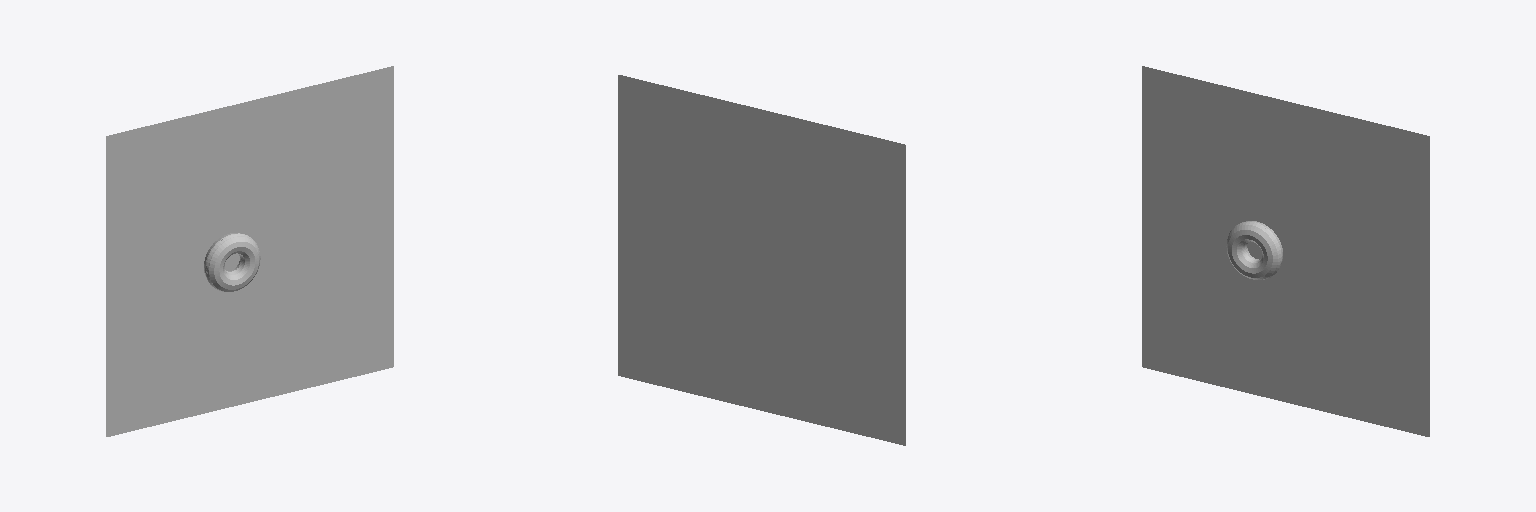
File: DonutWithStoneTextureNotTriangulated.obj
3 renders of one model, left to right at view 1: azimuth 30°, elevation 25°; view 2: azimuth 150°, elevation 25°; view 3: azimuth 330°, elevation 25°, orthographic.
Visible parts, largest first — view 1: Plane_Plane.001, Torus.001; view 2: Plane_Plane.001; view 3: Plane_Plane.001, Torus.001.
Boxes of the visible parts, box(x1,y1,x2,y2) form: Plane_Plane.001: box(106, 66, 393, 436); Torus.001: box(204, 233, 260, 291); Plane_Plane.001: box(618, 75, 905, 445); Plane_Plane.001: box(1142, 66, 1429, 436); Torus.001: box(1226, 221, 1282, 279).
Size of the model in its own units: 16 by 16 by 1.13.